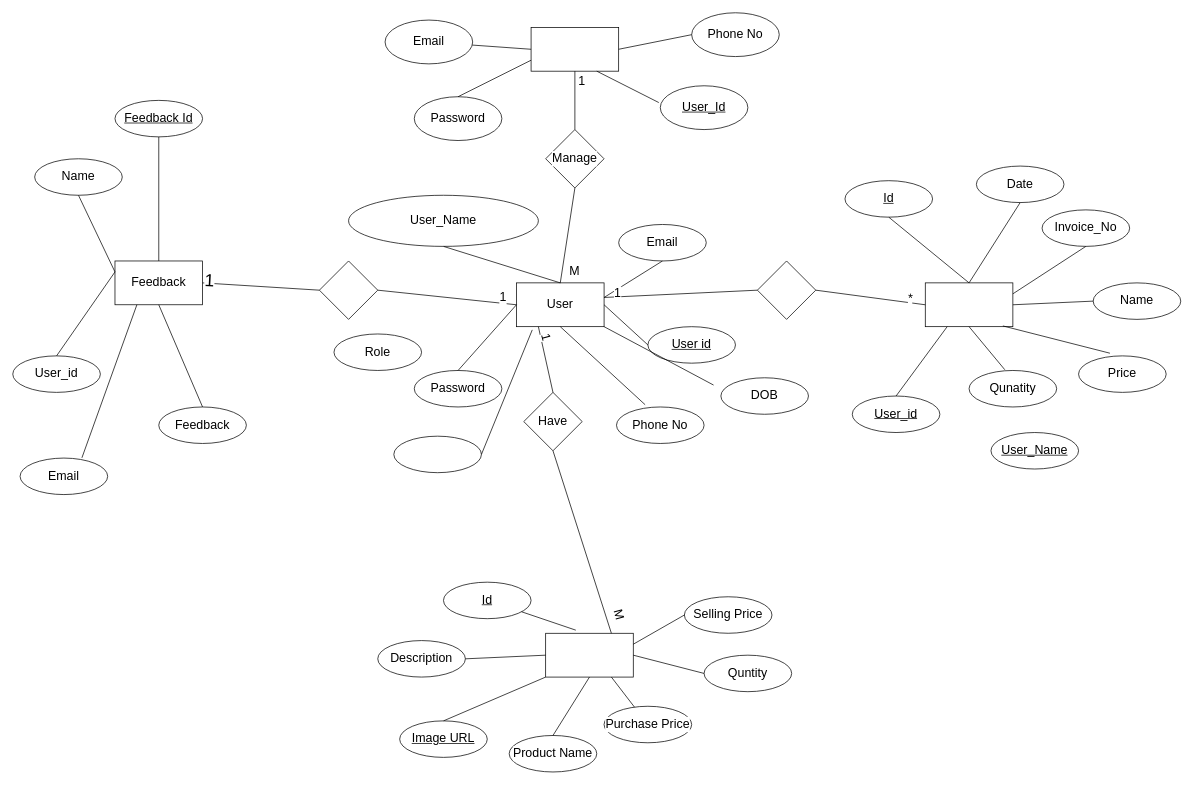
Some shapes in this 1194 by 785 pixel diagram are drawn without their labels. Each missing label, with the centre of its shape:
Address: pixel 437 454
Admin: pixel 574 49
Make: pixel 786 289
Order_Product: pixel 969 304
Product: pixel 589 655
Provide: pixel 348 289
